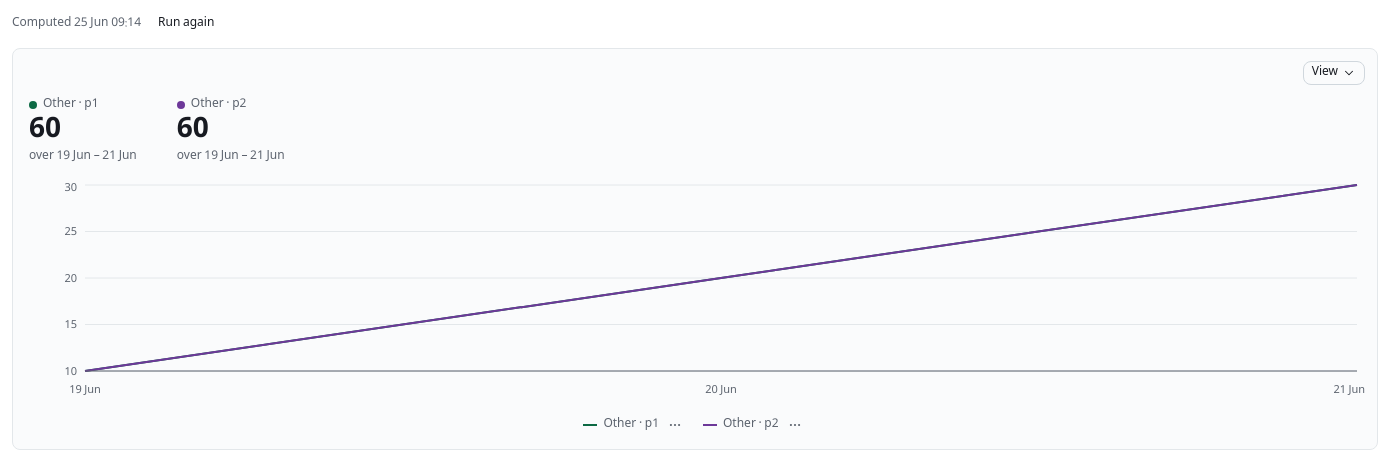
Test: AC-1138/1139/1141 — the legend is real buttons › shows all again from the `Show all` link
Click the button "Other · p1". click: (621, 425)
box: [583,417,659,433]
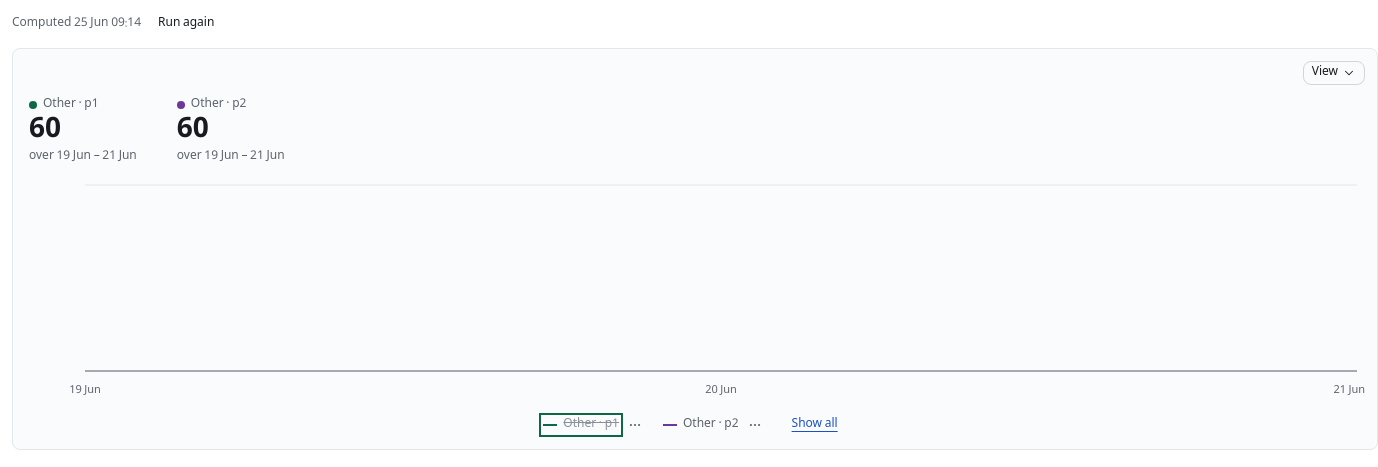
Click the button "Show all". click: (815, 425)
box: [783,413,847,437]
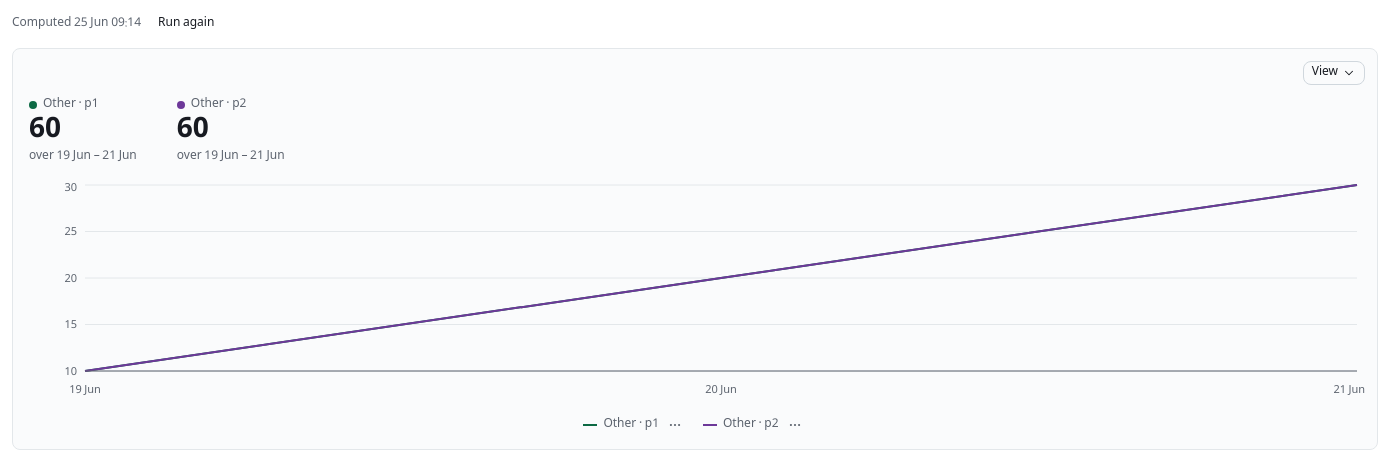
expect the button "Show all" is gone: met
